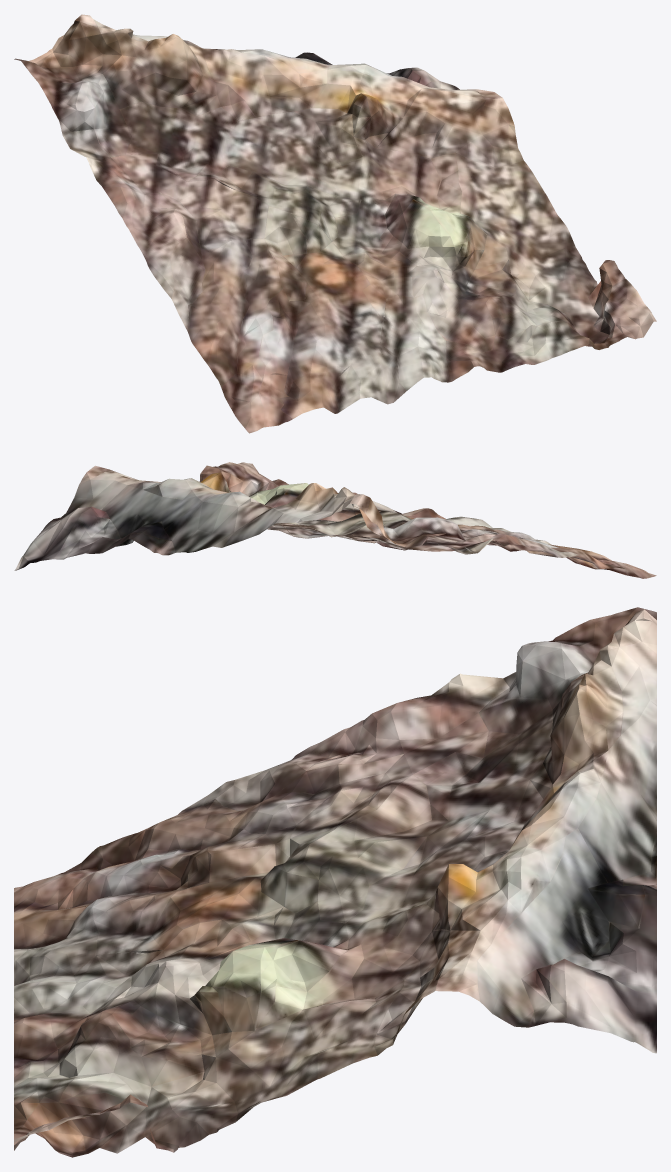
3 views of the same model, one above another, from view 1: azimuth 30°, elevation 25°; view 2: azimuth 150°, elevation 25°; view 3: azimuth 270°, elevation 25° (orthographic). The views are drawn at different scales.
Bounding box in the file's own units: 1.67 × 0.9895 × 1.67.
Materials: 3 (3 with a texture image).
